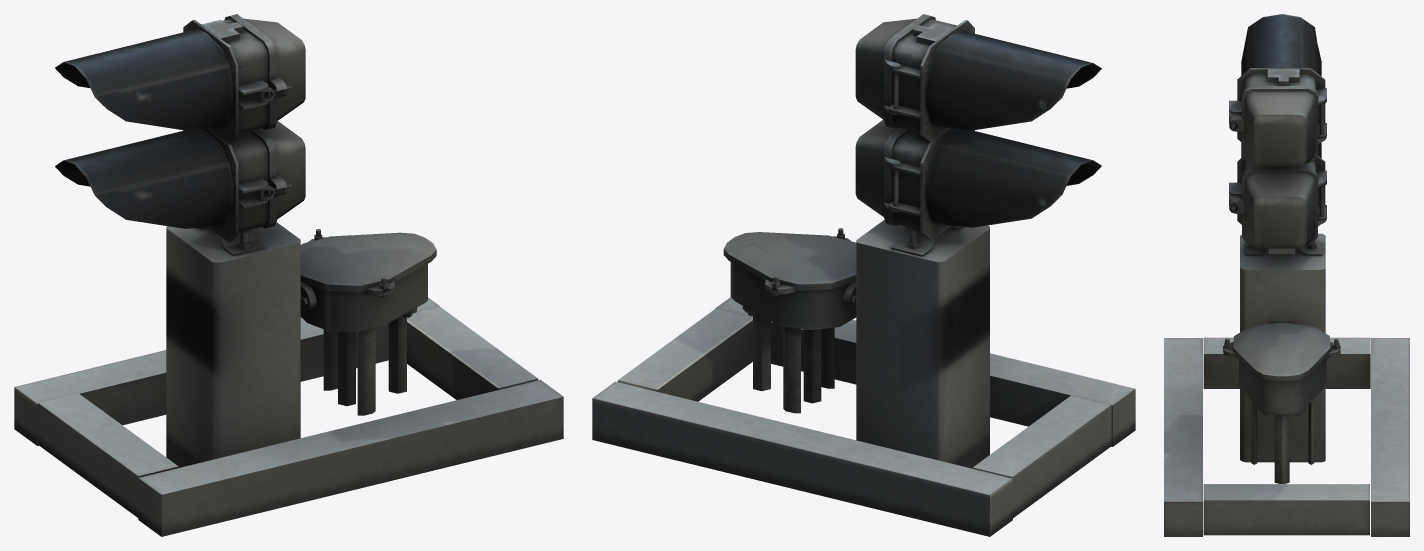
File: karlik.fbx
3 views of the same model, side by side, from view 1: azimuth 30°, elevation 25°; view 2: azimuth 150°, elevation 25°; view 3: azimuth 270°, elevation 25° (orthographic). The views are drawn at different scales.
Visible parts, largest first — view 1: karlik; view 2: karlik; view 3: karlik.
Part boxes in pixels (bbox=[...]): karlik: bbox=[14, 14, 563, 536]; karlik: bbox=[592, 14, 1135, 536]; karlik: bbox=[1164, 14, 1409, 536].
Size of the model in its own units: 0.9312 by 0.9318 by 0.5675.
